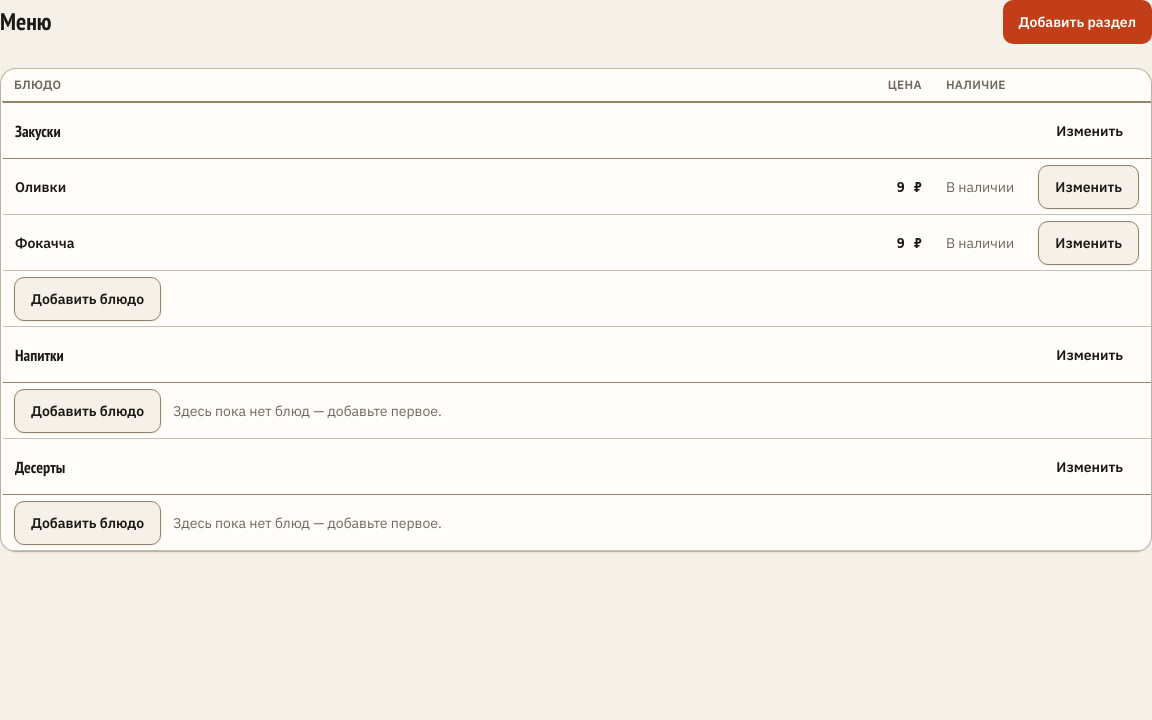
Test: MenuTable › refuses an unnamed category in words, before it asks the server anything
Click the button "Добавить раздел": (1077, 22) [1002, 0, 1151, 44]
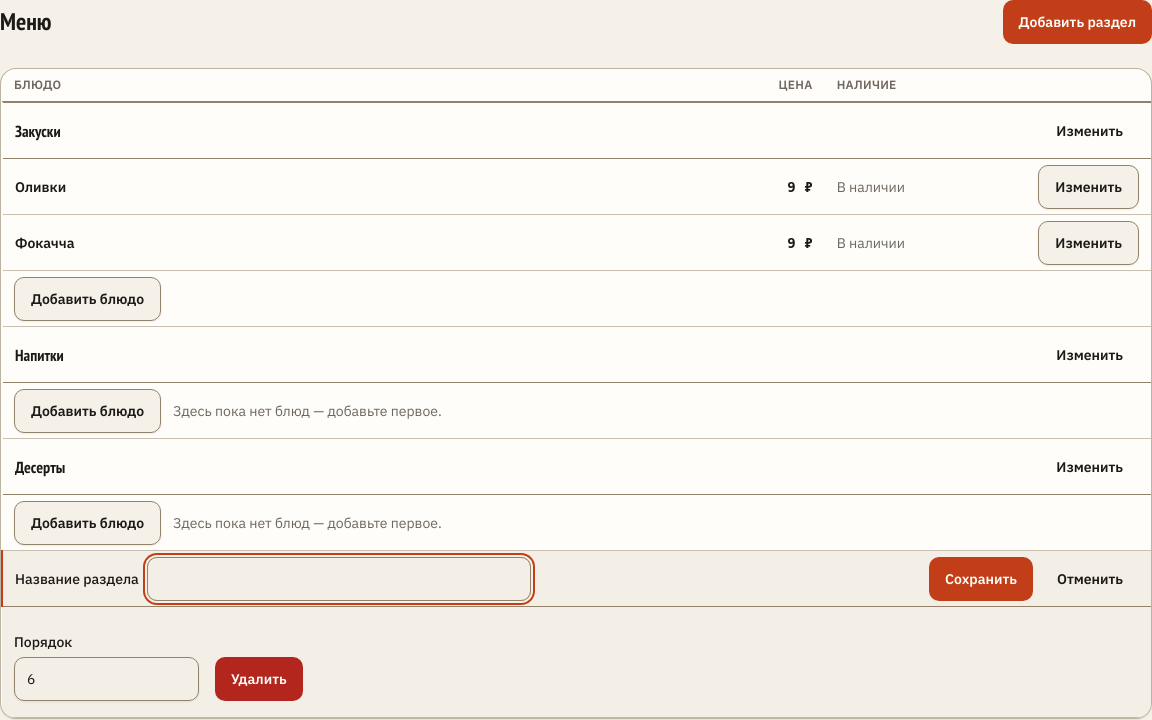
Click the button "Сохранить": (981, 578) [929, 556, 1033, 600]
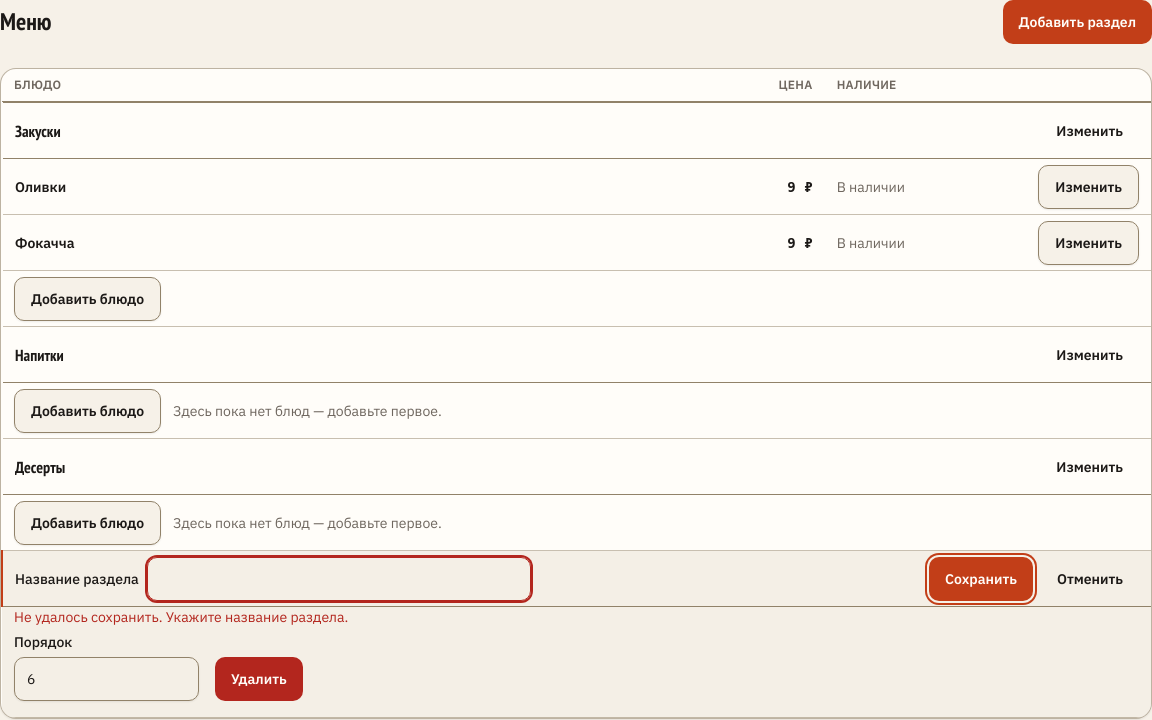
Expected: the message reads "Не удалось сохранить. Укажите название раздела.", [14, 608, 348, 626]
